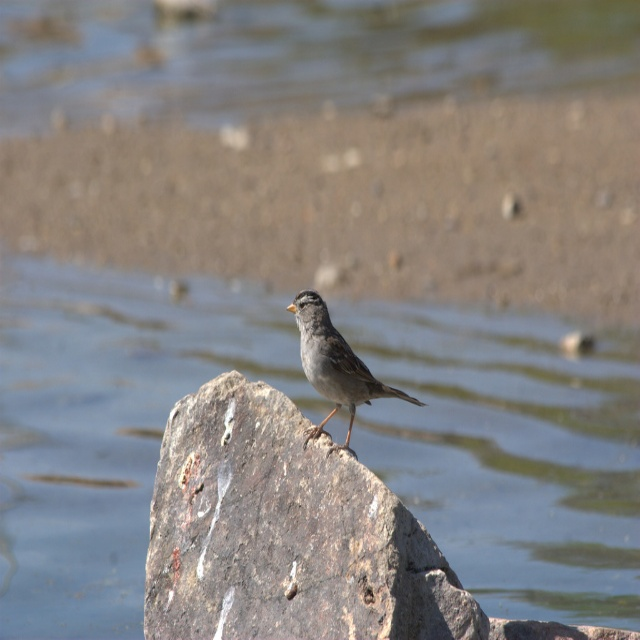Sparrow: (286, 292, 427, 462)
